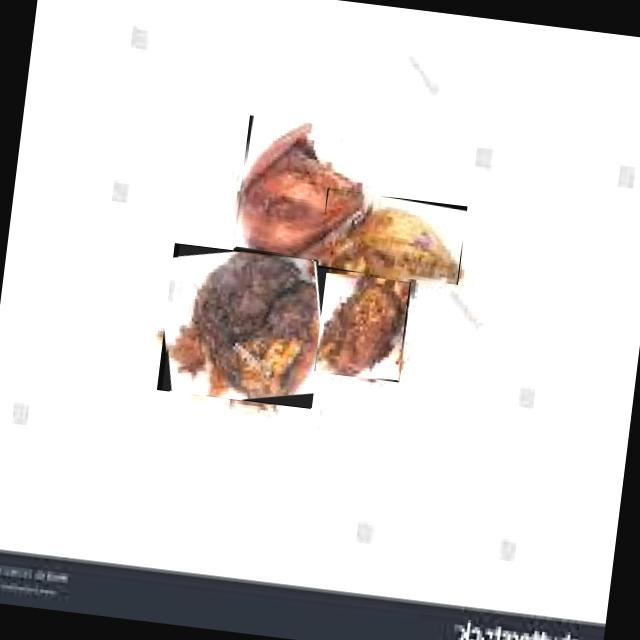rotten: (167, 252, 320, 399), (239, 123, 360, 255), (320, 195, 459, 284), (316, 276, 408, 374)
